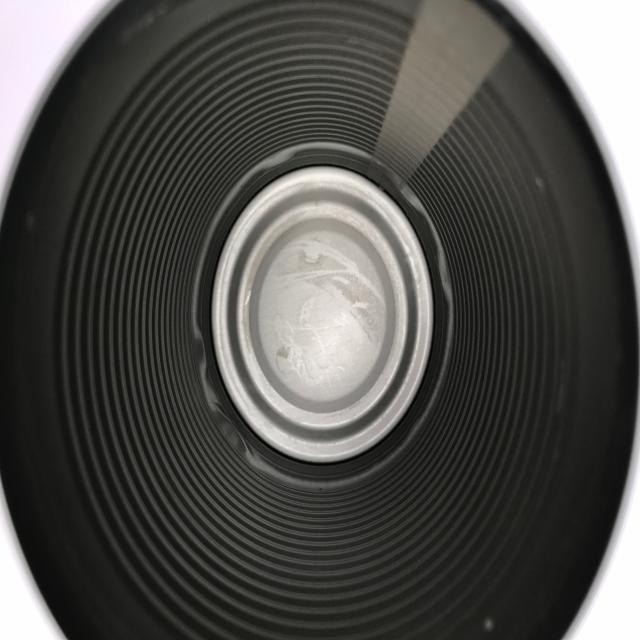metal: (1, 1, 638, 638)
